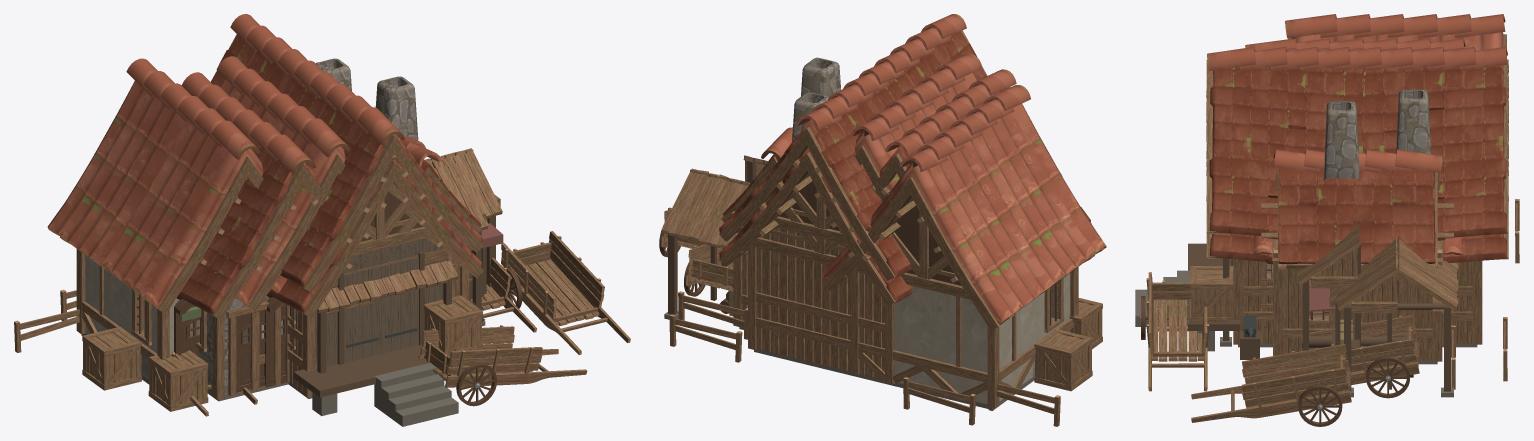
File: catalog.glb
3 views of the same model, side by side, from view 1: azimuth 30°, elevation 25°; view 2: azimuth 150°, elevation 25°; view 3: azimuth 270°, elevation 25° (orthographic). The views are drawn at different scales.
Parts seen in each view (by area): view 1: Roof_RoundTiles_4x4 (×2), Wall_Plaster_Door_Round (×2), Roof_FlatTiles_4x6 (×2), Wall_UnevenBrick_Door_Flat, Roof_Wooden_2x1, Wall_WoodWear_Straight, Wall_WoodWear_Door_Flat (×2), Roof_FlatTiles_4x4, loading bay infill, closed floor (×2), rubble foundation, Prop_Chimney2; view 2: Roof_RoundTiles_4x4 (×2), Wall_Plaster_Door_Round (×2), Wall_WoodWear_Door_Flat, Roof_FlatTiles_4x6 (×2), Wall_WoodWear_Straight, Roof_Wooden_2x1, Wall_UnevenBrick_Door_Flat, Roof_FlatTiles_4x4, Roof_Wooden_2x1_L, rubble foundation (×2), closed floor, Prop_Chimney2; view 3: Roof_FlatTiles_4x6 (×2), Wall_Plaster_Door_Round (×2), Roof_2x4_FlatTile, Wall_WoodWear_Straight, Roof_RoundTiles_4x4 (×3), Roof_Wooden_2x1, Wall_UnevenBrick_Door_Flat, Wall_WoodWear_Door_Flat, closed floor (×3), Prop_Chimney2, Roof_FlatTiles_4x4, rubble foundation (+3 smaller).
Boxes of the visible parts, x1,y1,x2,y2 form: Roof_RoundTiles_4x4 (×2): (47, 56, 441, 308); Wall_Plaster_Door_Round (×2): (48, 148, 587, 406); Roof_FlatTiles_4x6 (×2): (211, 14, 482, 313); Wall_UnevenBrick_Door_Flat: (148, 76, 487, 411); Roof_Wooden_2x1: (14, 219, 630, 390); Wall_WoodWear_Straight: (211, 34, 536, 371); Wall_WoodWear_Door_Flat (×2): (287, 161, 483, 397); Roof_FlatTiles_4x4: (176, 72, 320, 315); loading bay infill: (315, 238, 446, 366); closed floor (×2): (293, 251, 486, 397); rubble foundation: (288, 363, 458, 426); Prop_Chimney2: (316, 58, 351, 90); Roof_RoundTiles_4x4 (×2): (761, 53, 1106, 325); Wall_Plaster_Door_Round (×2): (661, 145, 1106, 425); Wall_WoodWear_Door_Flat: (719, 152, 895, 383); Roof_FlatTiles_4x6 (×2): (719, 14, 986, 303); Wall_WoodWear_Straight: (684, 30, 987, 358); Roof_Wooden_2x1: (659, 207, 1092, 426); Wall_UnevenBrick_Door_Flat: (743, 57, 1102, 349); Roof_FlatTiles_4x4: (879, 69, 1090, 221); Roof_Wooden_2x1_L: (678, 291, 747, 339); rubble foundation (×2): (664, 311, 1034, 408); closed floor: (668, 234, 724, 314); Prop_Chimney2: (792, 92, 828, 141); Roof_FlatTiles_4x6 (×2): (1207, 47, 1507, 264); Wall_Plaster_Door_Round (×2): (1139, 34, 1519, 391); Roof_2x4_FlatTile: (1278, 167, 1435, 264); Wall_WoodWear_Straight: (1190, 59, 1508, 398); Roof_RoundTiles_4x4 (×3): (1253, 14, 1505, 254); Roof_Wooden_2x1: (1191, 288, 1351, 426); Wall_UnevenBrick_Door_Flat: (1297, 101, 1359, 288); Wall_WoodWear_Door_Flat: (1206, 116, 1508, 344); closed floor (×3): (1188, 242, 1450, 391); Prop_Chimney2: (1396, 89, 1430, 154); Roof_FlatTiles_4x4: (1245, 38, 1465, 50); rubble foundation: (1135, 270, 1477, 351).
Size of the model in its own units: 13.7 by 7.35 by 9.63.
Materials: 25 (14 with a texture image).
